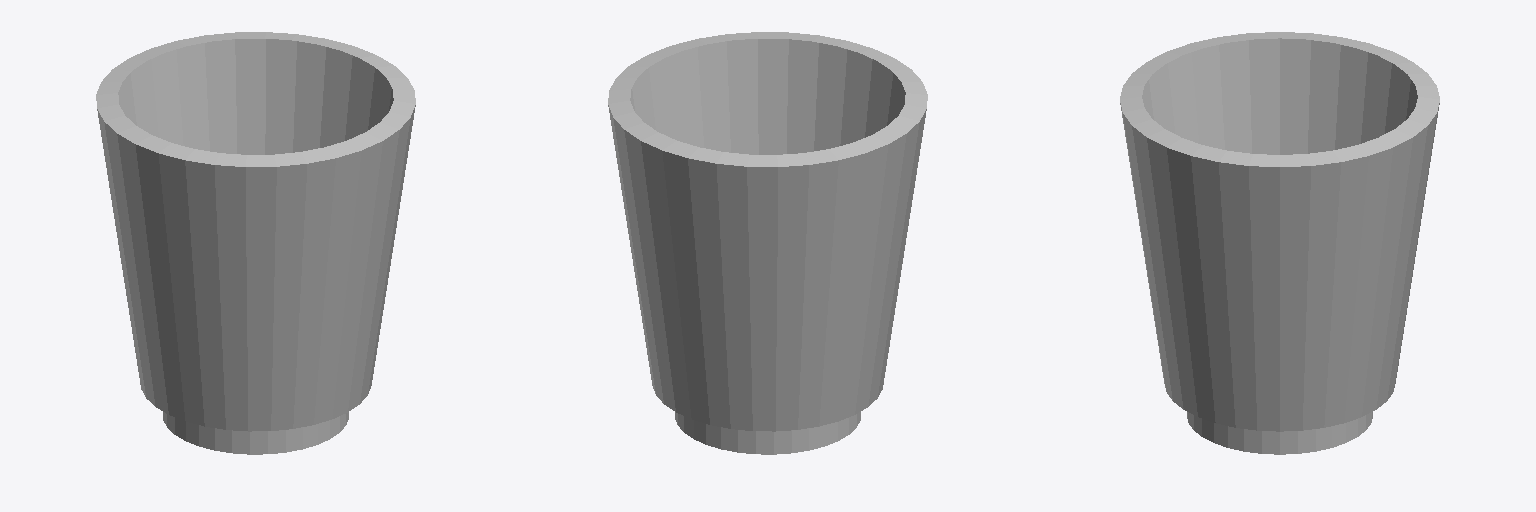
The model's file is newtrashcan2.obj.
3 renders of one model, left to right at view 1: azimuth 30°, elevation 25°; view 2: azimuth 150°, elevation 25°; view 3: azimuth 270°, elevation 25°, orthographic.
Parts seen in each view (by area): view 1: Trash_Can_Cube; view 2: Trash_Can_Cube; view 3: Trash_Can_Cube.
Part boxes in pixels (x1,y1,x2,y2): Trash_Can_Cube: (96, 32, 415, 454); Trash_Can_Cube: (608, 32, 927, 454); Trash_Can_Cube: (1120, 32, 1439, 454).
Bounding box in the file's own units: 3.43 × 3.76 × 3.43.